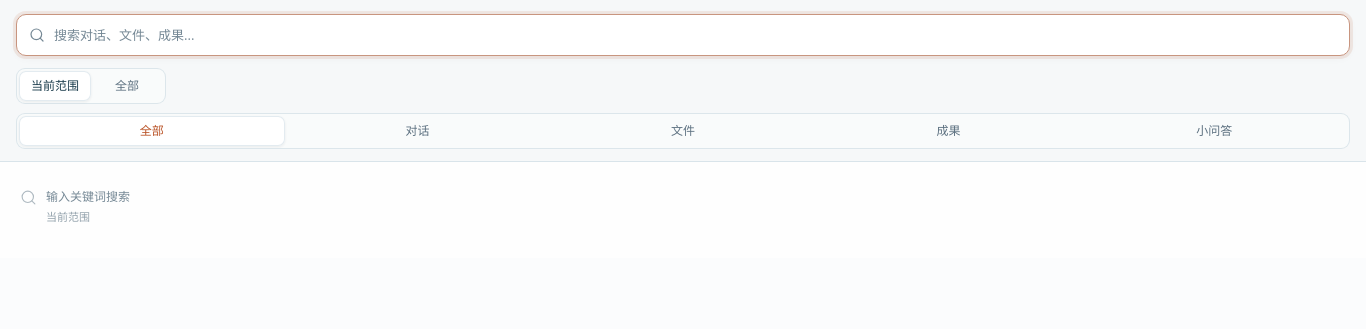
Test case: GlobalSearchPage › defaults the embedded search to the current scope and lets the user widen it
Type "新对话" into the field with placeholder "搜索对话、文件、成果..." at [696, 35], box [54,26,1339,44]
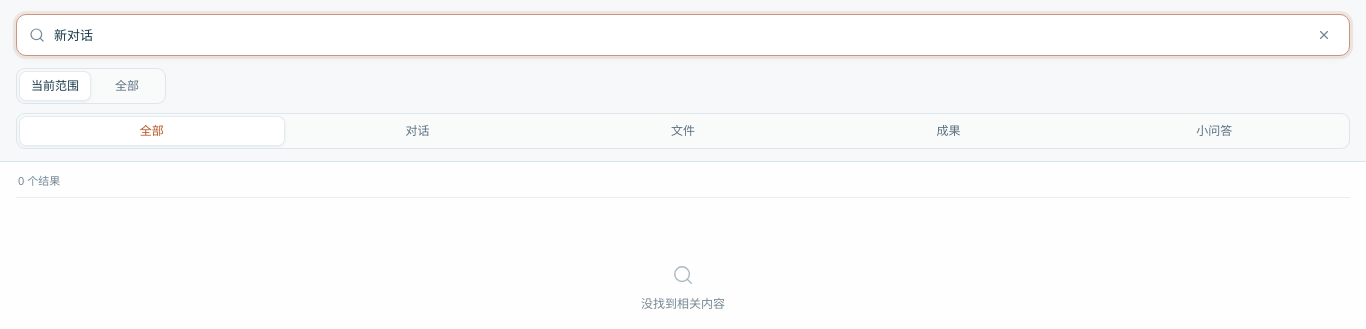
Expected: the text "没找到相关内容" is shown, [641,295,725,313]
Click the 1st button "全部" at [127, 86], box [91,71,163,101]
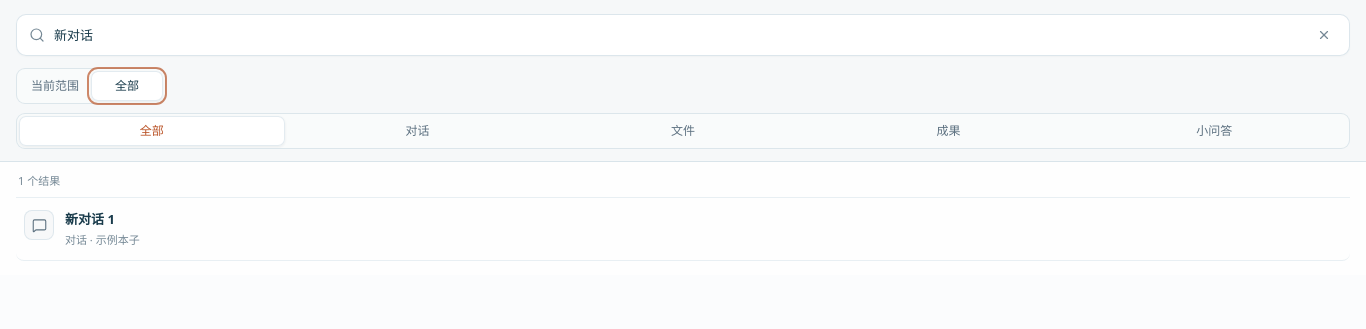
Expected: the button "新对话 1 对话 · 示例本子" is shown, [16,198,1350,260]
